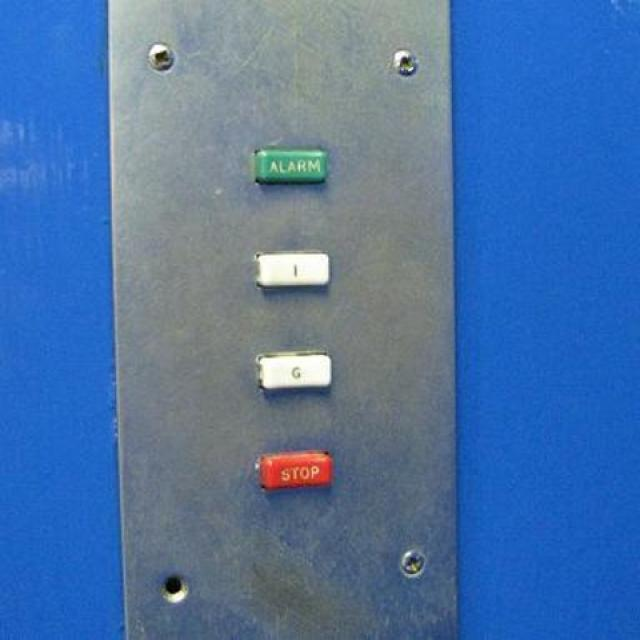1: (253, 248, 329, 289)
G: (253, 348, 332, 389)
text_alarm bell: (252, 146, 327, 184)
text_stop: (255, 448, 333, 489)
